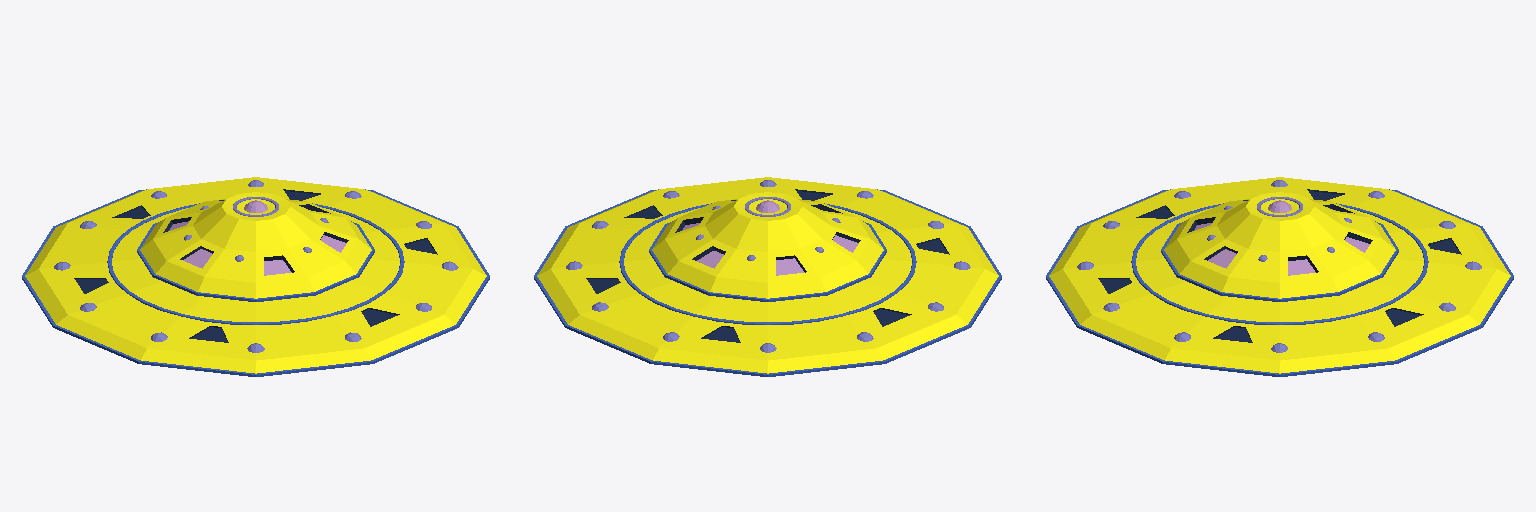
3 renders of one model, left to right at view 1: azimuth 30°, elevation 25°; view 2: azimuth 150°, elevation 25°; view 3: azimuth 270°, elevation 25°, orthographic.
Bounding box in the file's own units: 424 × 108 × 424.
Materials: 1 (1 with a texture image).